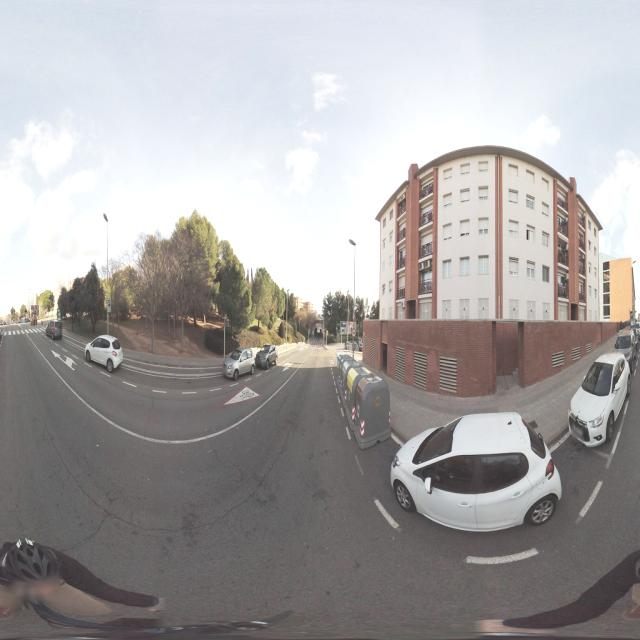car: (568, 352, 631, 452), (84, 334, 124, 372), (222, 348, 255, 382), (614, 330, 637, 370), (254, 343, 277, 369), (49, 320, 63, 340), (551, 352, 565, 367)
